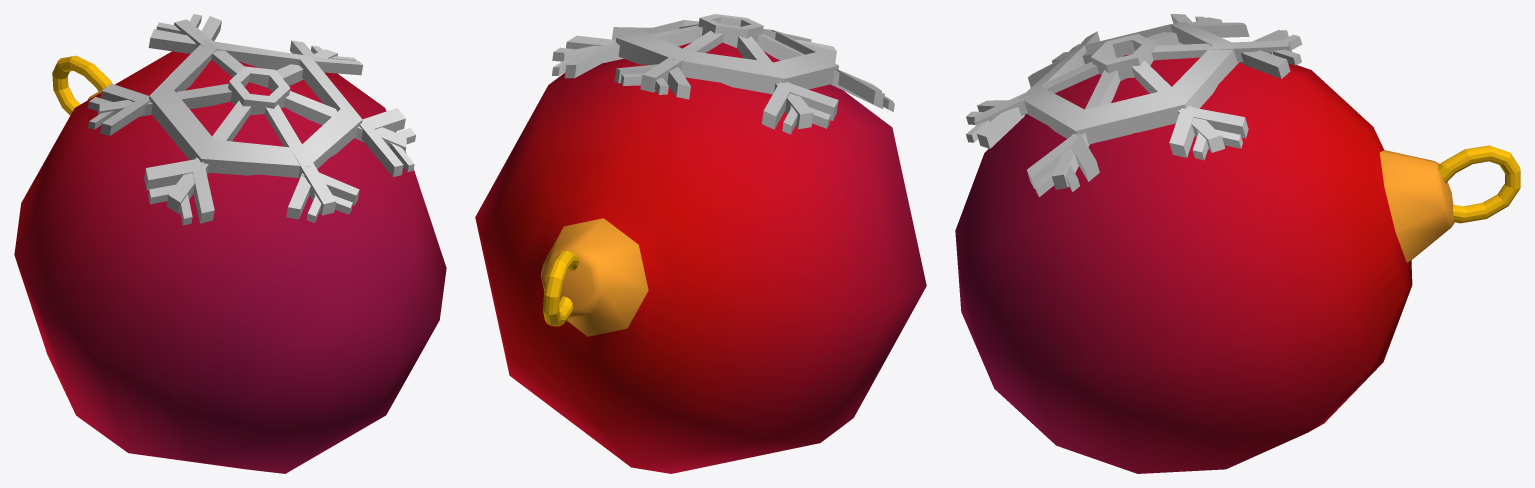
Rendered from Ornament_ball.fbx.
3 views of the same model, side by side, from view 1: azimuth 30°, elevation 25°; view 2: azimuth 150°, elevation 25°; view 3: azimuth 270°, elevation 25° (orthographic). The views are drawn at different scales.
Parts seen in each view (by area): view 1: Ornament_ball; view 2: Ornament_ball; view 3: Ornament_ball.
Boxes of the visible parts, <box> form: Ornament_ball: <box>14,14,446,473</box>; Ornament_ball: <box>475,14,926,473</box>; Ornament_ball: <box>955,14,1520,473</box>.
Bounding box in the file's own units: 26.3 × 26.64 × 32.25.
